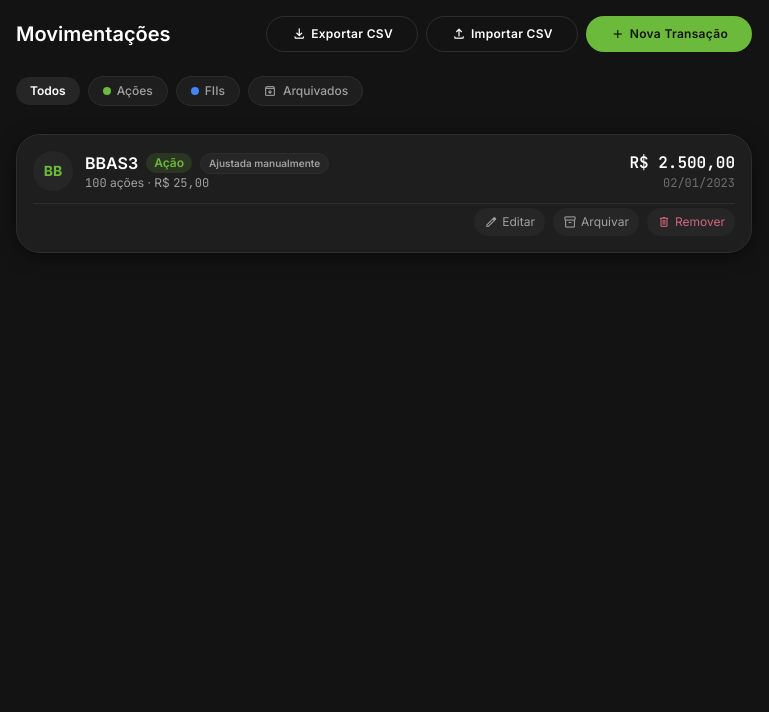
Test: Transactions — formulário e override manual › checkbox de override começa desmarcado e salva ajustadaManualmente=false
Later steps or results of the test are not shown.
Click the button "Editar" at (510, 222), box top-left (474, 208), bottom-right (545, 236)
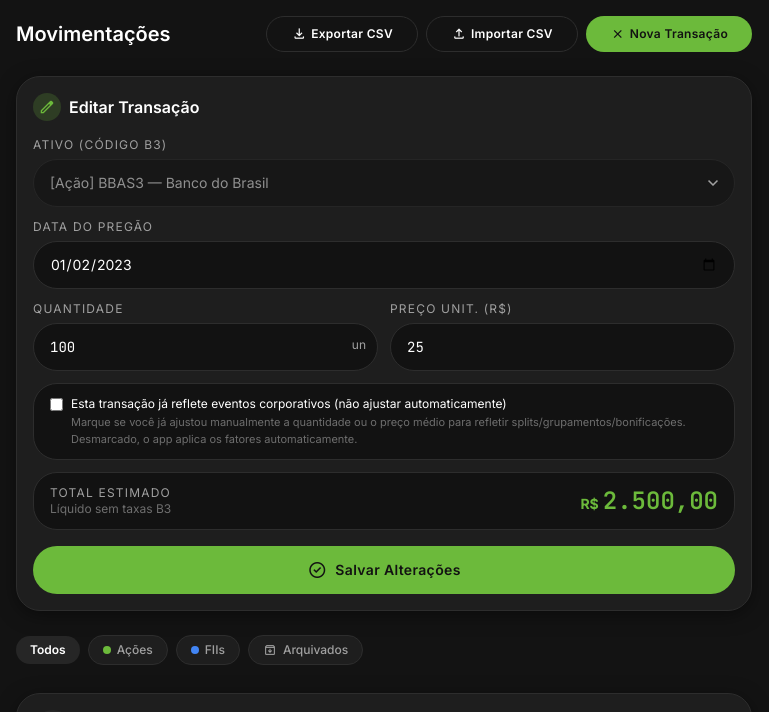
Expected: the number of checkboxes is 1, top-left (50, 398), bottom-right (63, 411)
Expected: the checkbox is not checked, top-left (50, 398), bottom-right (63, 411)
